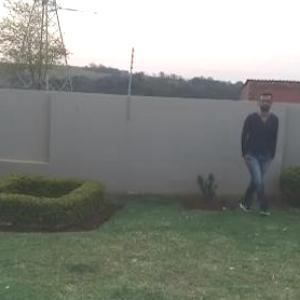follow: (231, 91, 283, 208)
